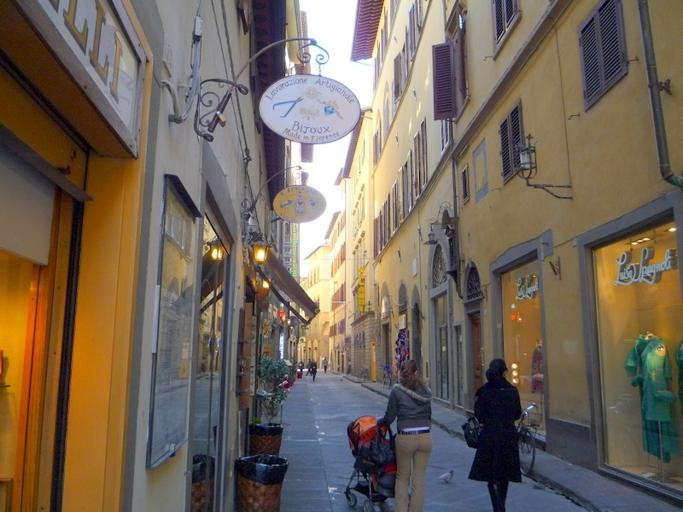non-vehicle: (512, 401, 539, 477), (379, 364, 391, 390)
